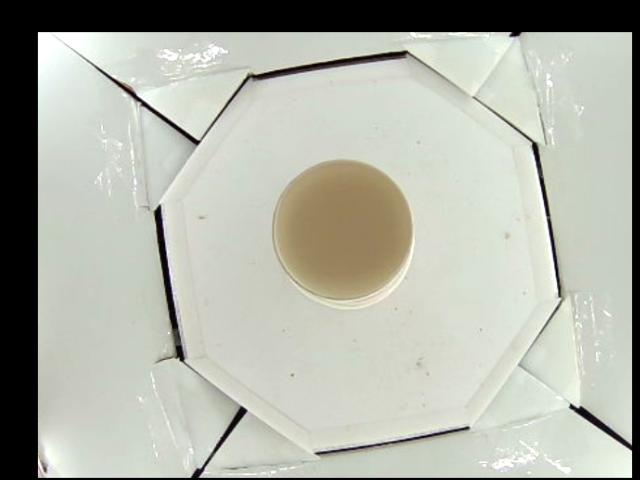Cup: (271, 156, 417, 306)
